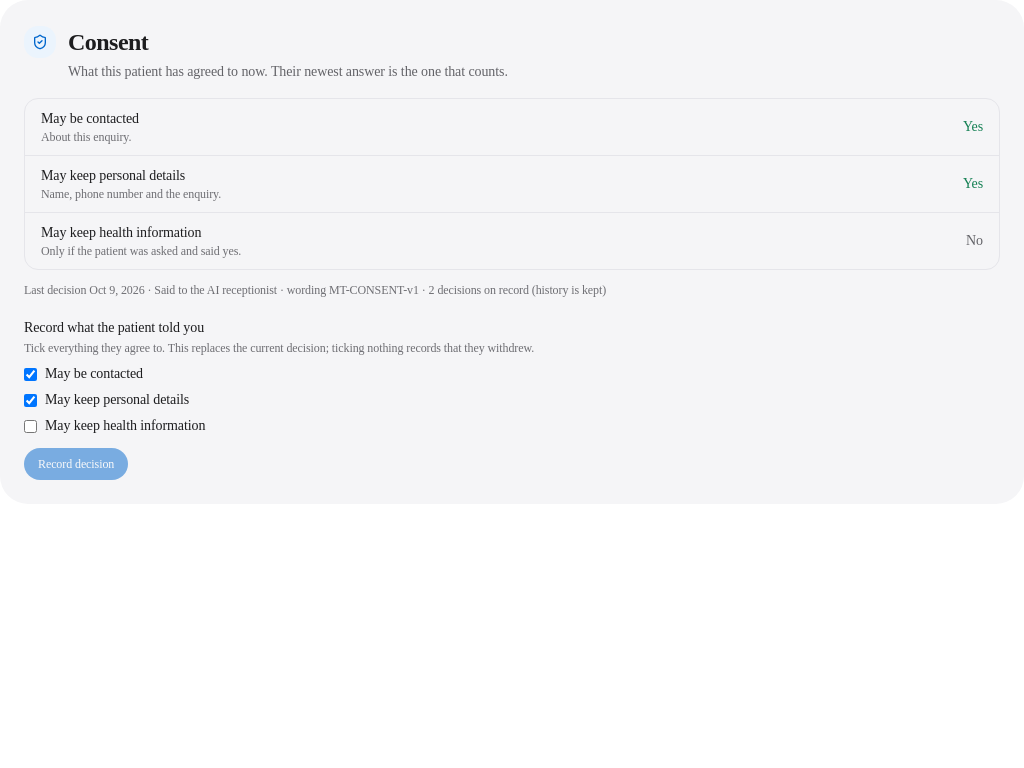
LeadConsentPanel › records a team member's decision as a COMPLETE set, and only when it differs from the current one
expect the button "Record decision" is disabled: met, box 24,448 -> 128,480
Click the checkbox labelled "May keep personal details" at (30,400), box 24,394 -> 37,406
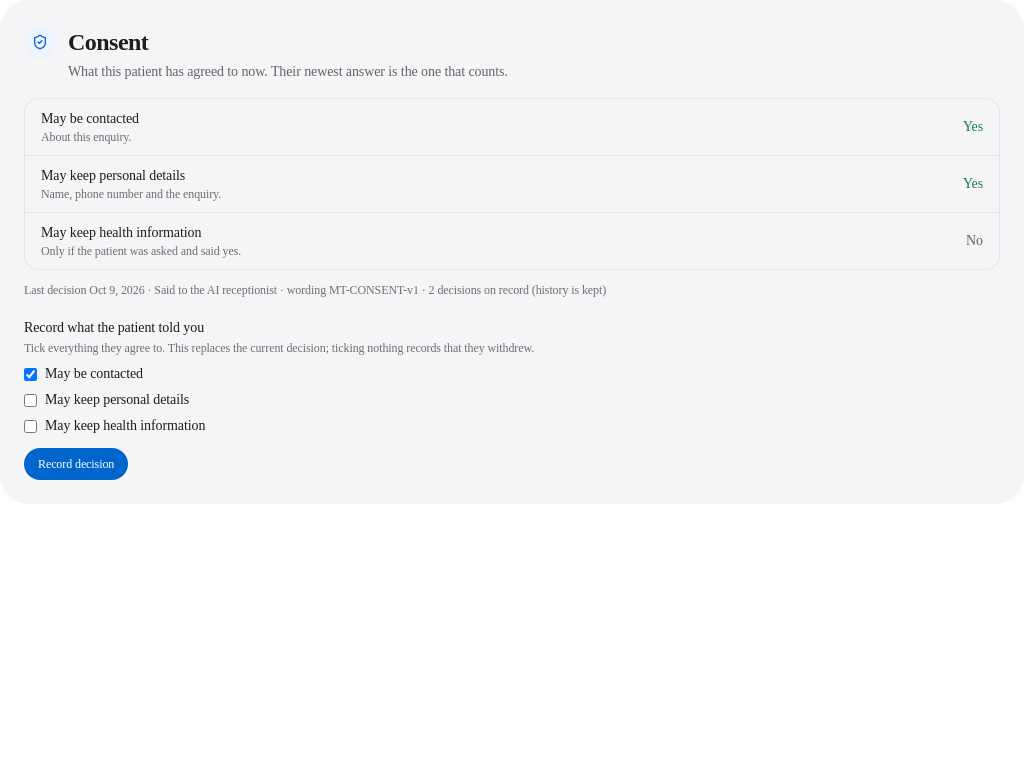
expect the button "Record decision" is enabled: met
Click the button "Record decision" at (76,464), box 24,448 -> 128,480
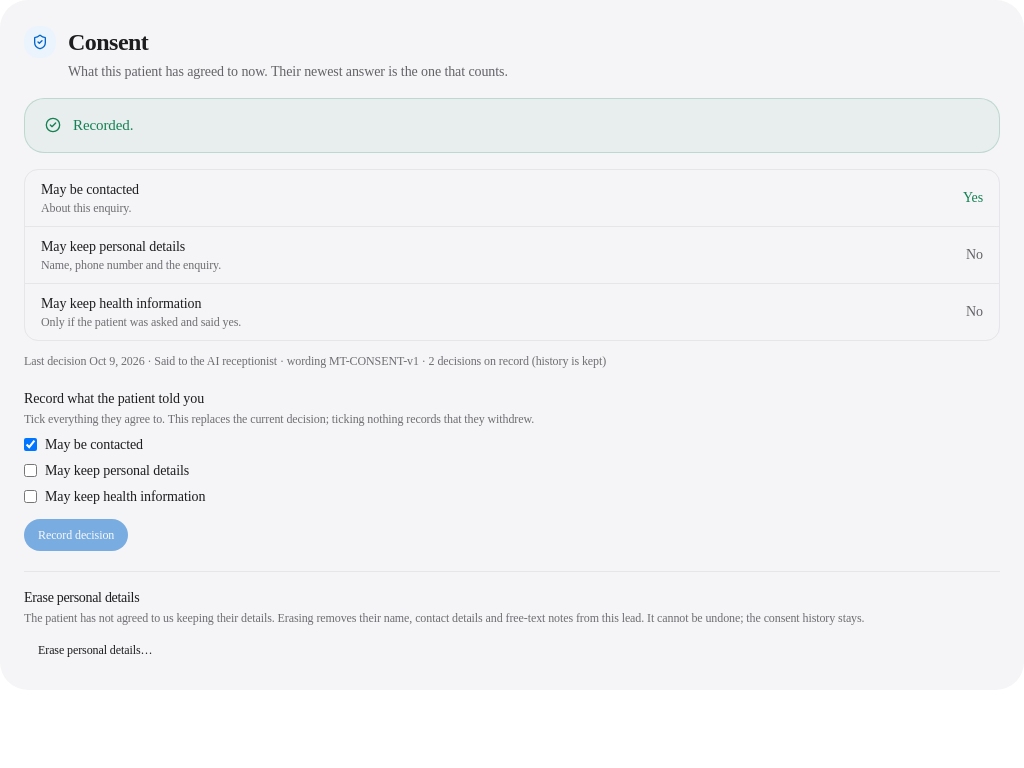
expect the text "Recorded." is shown: met, box 73,117 -> 133,133
